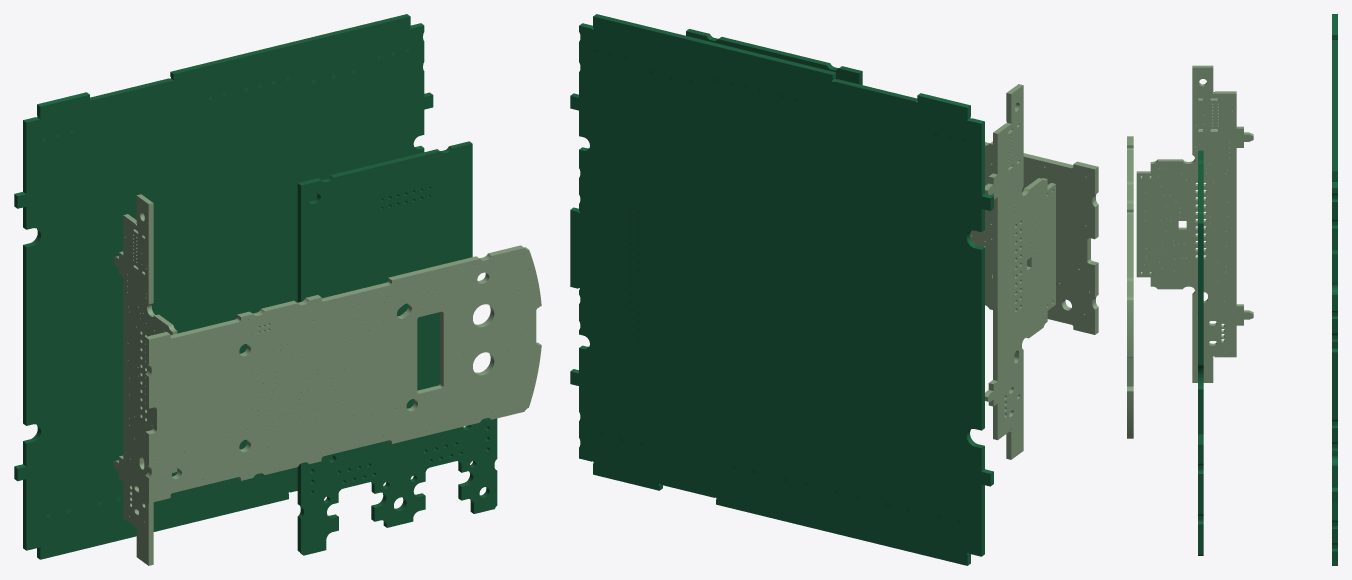
3 renders of one model, left to right at view 1: azimuth 30°, elevation 25°; view 2: azimuth 150°, elevation 25°; view 3: azimuth 270°, elevation 25°, orthographic. The views are drawn at different scales.
Parts seen in each view (by area): view 1: AS-XP06-PROPLUS-FOR_PATENT.005, 805756-PEP-001.020, 805754-PEP-001.001, 805753-PEP-001.001, AS-XP06-PROPLUS-FOR_PATENT.004; view 2: AS-XP06-PROPLUS-FOR_PATENT.004, 805753-PEP-001.001, 805756-PEP-001.020, AS-XP06-PROPLUS-FOR_PATENT.005, 805754-PEP-001.001; view 3: 805753-PEP-001.001, 805754-PEP-001.001, 805756-PEP-001.020, AS-XP06-PROPLUS-FOR_PATENT.005, AS-XP06-PROPLUS-FOR_PATENT.004.
Part boxes in pixels (x1,y1,x2,y2): AS-XP06-PROPLUS-FOR_PATENT.005: [14, 14, 433, 559]; 805756-PEP-001.020: [145, 245, 541, 503]; 805754-PEP-001.001: [297, 141, 497, 555]; 805753-PEP-001.001: [113, 194, 177, 565]; AS-XP06-PROPLUS-FOR_PATENT.004: [14, 23, 423, 559]; AS-XP06-PROPLUS-FOR_PATENT.004: [570, 16, 993, 565]; 805753-PEP-001.001: [985, 84, 1055, 459]; 805756-PEP-001.020: [970, 141, 1098, 334]; AS-XP06-PROPLUS-FOR_PATENT.005: [570, 14, 993, 556]; 805754-PEP-001.001: [686, 29, 862, 84]; 805753-PEP-001.001: [1136, 65, 1253, 382]; 805754-PEP-001.001: [1198, 150, 1203, 555]; 805756-PEP-001.020: [1127, 136, 1133, 438]; AS-XP06-PROPLUS-FOR_PATENT.005: [1332, 35, 1337, 560]; AS-XP06-PROPLUS-FOR_PATENT.004: [1332, 14, 1337, 565].
Bounding box in the file's own units: 0.1476 × 0.1538 × 0.0744.
